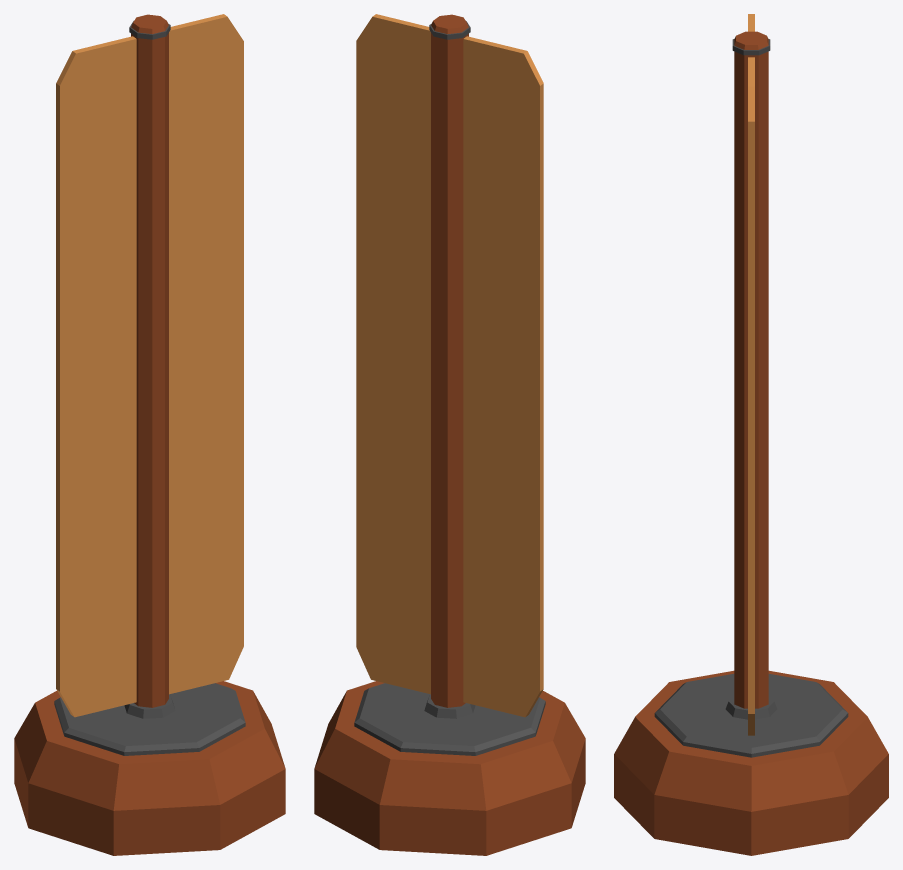
The model's file is Mill.fbx.
The picture shows the model from 3 angles, left to right: view 1: azimuth 30°, elevation 25°; view 2: azimuth 150°, elevation 25°; view 3: azimuth 270°, elevation 25°; orthographic projection. The views are drawn at different scales.
Visible parts, largest first — view 1: Core, Base; view 2: Core, Base; view 3: Base, Core.
Boxes of the visible parts, bbox=[...] form: Core: bbox=[56, 14, 243, 717]; Base: bbox=[14, 681, 285, 855]; Core: bbox=[356, 14, 543, 717]; Base: bbox=[314, 681, 585, 855]; Base: bbox=[614, 670, 888, 855]; Core: bbox=[732, 14, 770, 735].
Bounding box in the file's own units: 200 × 610 × 200.
